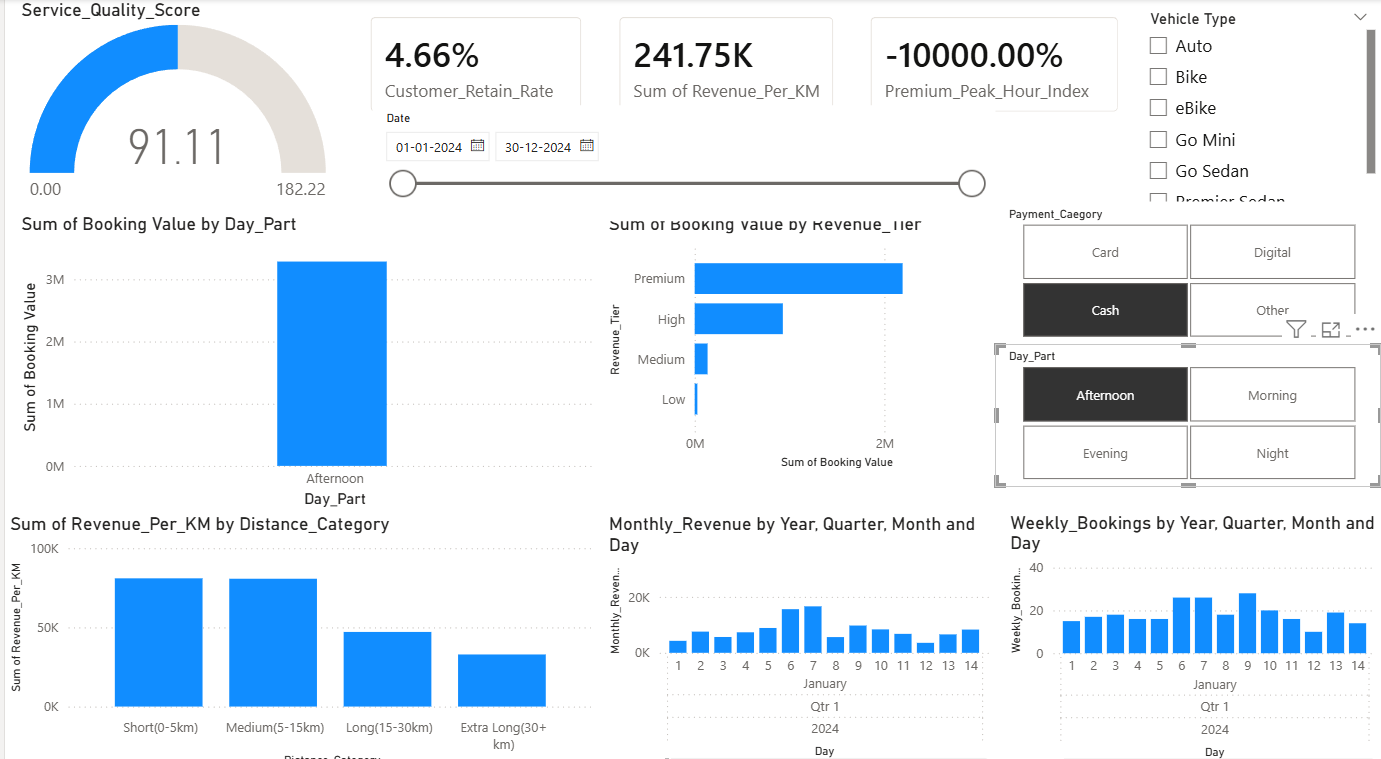

The dashboard page shown, as its layout file describes it:
{"tool":"powerbi","page":{"name":"Summary","canvas":[1280,720],"ordinal":6},"visuals":[{"type":"gauge","fields":{"Y":["rideBookings.Service_Quality_Score"]},"box":[10.7,0,300.9,198.5],"z":0},{"type":"cardVisual","fields":{"Data":["rideBookings.Customer_Retain_Rate"]},"box":[323.8,0,230.6,122.2],"z":1000},{"type":"cardVisual","fields":{"Data":["Sum(rideBookings.Revenue_Per_KM)"]},"box":[554.4,0,233.7,122.2],"z":2000},{"type":"cardVisual","fields":{"Data":["rideBookings.Premium_Peak_Hour_Index"]},"box":[788,0,264.2,122.2],"z":3000},{"type":"clusteredColumnChart","fields":{"Category":["rideBookings.Day_Part"],"Y":["Sum(rideBookings.Booking Value)"]},"box":[10.7,198.5,543.7,279.5],"z":4000},{"type":"clusteredBarChart","fields":{"Category":["rideBookings.Revenue_Tier"],"Y":["Sum(rideBookings.Booking Value)"]},"box":[557.4,198.5,363.5,242.8],"z":5000},{"type":"clusteredColumnChart","fields":{"Y":["Sum(rideBookings.Revenue_Per_KM)"],"Category":["rideBookings.Distance_Category"]},"box":[0,478,554.4,241.3],"z":6000},{"type":"lineStackedColumnComboChart","fields":{"Y":["rideBookings.Monthly_Revenue"],"Category":["rideBookings.Date.Variation.Date Hierarchy.Year","rideBookings.Date.Variation.Date Hierarchy.Quarter","rideBookings.Date.Variation.Date Hierarchy.Month","rideBookings.Date.Variation.Date Hierarchy.Day"]},"box":[557.4,478,363.5,241.3],"z":7000},{"type":"lineClusteredColumnComboChart","fields":{"Y":["rideBookings.Weekly_Bookings"],"Category":["rideBookings.Date.Variation.Date Hierarchy.Year","rideBookings.Date.Variation.Date Hierarchy.Quarter","rideBookings.Date.Variation.Date Hierarchy.Month","rideBookings.Date.Variation.Date Hierarchy.Day"]},"box":[930.1,476.5,349.7,242.8],"z":8000},{"type":"slicer","fields":{"Values":["rideBookings.Date"]},"box":[342.1,99.3,578.8,106.9],"z":9000},{"type":"slicer","fields":{"Values":["rideBookings.Vehicle Type"]},"box":[1052.2,4.6,227.6,194],"z":10000},{"type":"slicer","fields":{"Values":["rideBookings.Payment_Caegory"]},"box":[920.9,187.8,358.9,132.9],"z":11000},{"type":"slicer","fields":{"Values":["rideBookings.Day_Part"]},"box":[920.9,320.7,358.9,132.9],"z":12000}]}

Visuals, with their boxes in screenshot pixels (x1, y1, x2, y2), scaled from the page's 1280x720 canvas onto the 1381x759 screenshot:
gauge - rideBookings.Service_Quality_Score: crop(12, 0, 336, 209)
cardVisual - rideBookings.Customer_Retain_Rate: crop(349, 0, 598, 129)
cardVisual - Sum(rideBookings.Revenue_Per_KM): crop(598, 0, 850, 129)
cardVisual - rideBookings.Premium_Peak_Hour_Index: crop(850, 0, 1135, 129)
clusteredColumnChart - rideBookings.Day_Part x Sum(rideBookings.Booking Value): crop(12, 209, 598, 504)
clusteredBarChart - rideBookings.Revenue_Tier x Sum(rideBookings.Booking Value): crop(601, 209, 994, 465)
clusteredColumnChart - Sum(rideBookings.Revenue_Per_KM) x rideBookings.Distance_Category: crop(0, 504, 598, 758)
lineStackedColumnComboChart - rideBookings.Monthly_Revenue x rideBookings.Date.Variation.Date Hierarchy.Year: crop(601, 504, 994, 758)
lineClusteredColumnComboChart - rideBookings.Weekly_Bookings x rideBookings.Date.Variation.Date Hierarchy.Year: crop(1003, 502, 1380, 758)
slicer - rideBookings.Date: crop(369, 105, 994, 217)
slicer - rideBookings.Vehicle Type: crop(1135, 5, 1380, 209)
slicer - rideBookings.Payment_Caegory: crop(994, 198, 1380, 338)
slicer - rideBookings.Day_Part: crop(994, 338, 1380, 478)
